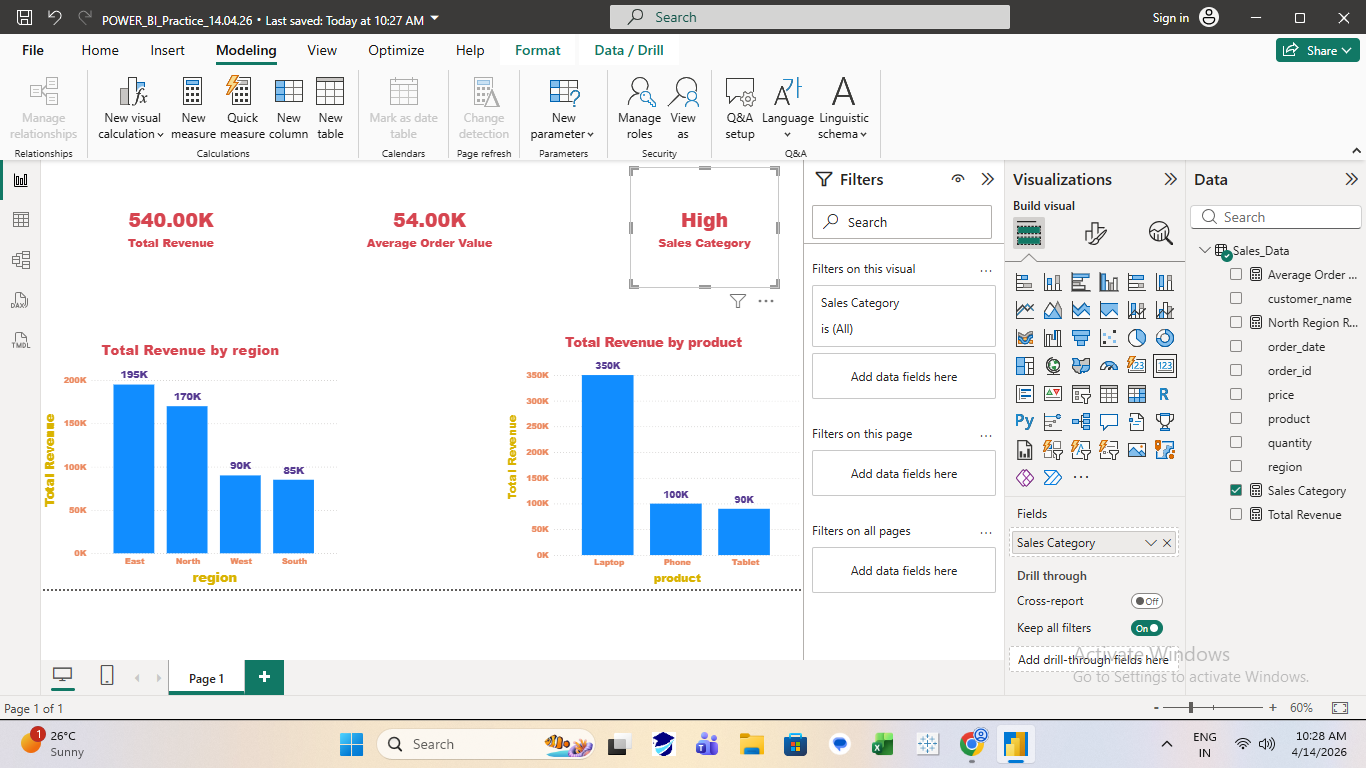

This screenshot's page, from the dashboard's own definition file:
{"tool":"powerbi","page":{"name":"Page 1","canvas":[1280,720],"ordinal":0},"visuals":[{"type":"clusteredColumnChart","fields":{"Category":["Sales_Data.region"],"Y":["Sales_Data.Total Revenue"]},"box":[0,302.4,502.3,418.3],"z":0},{"type":"clusteredColumnChart","fields":{"Y":["Sales_Data.Total Revenue"],"Category":["Sales_Data.product"]},"box":[777.7,290.6,502.3,430],"z":1},{"type":"card","fields":{"Values":["Sales_Data.Total Revenue"]},"box":[92.4,11.8,252,203.3],"z":2},{"type":"card","fields":{"Values":["Sales_Data.Average Order Value"]},"box":[527.5,11.8,250.3,203.3],"z":3},{"type":"card","fields":{"Values":["Sales_Data.Sales Category"]},"box":[989.4,11.8,250.3,203.3],"z":4}]}

Visuals, with their boxes on the page's 1280x720 design canvas (x1, y1, x2, y2). These are canvas units, not pixel positions in the 1366x768 screenshot, which may show the page scaled, cropped or inside an application window:
clusteredColumnChart - Sales_Data.region x Sales_Data.Total Revenue: [x1=0, y1=302, x2=502, y2=721]
clusteredColumnChart - Sales_Data.Total Revenue x Sales_Data.product: [x1=778, y1=291, x2=1280, y2=721]
card - Sales_Data.Total Revenue: [x1=92, y1=12, x2=344, y2=215]
card - Sales_Data.Average Order Value: [x1=528, y1=12, x2=778, y2=215]
card - Sales_Data.Sales Category: [x1=989, y1=12, x2=1240, y2=215]
